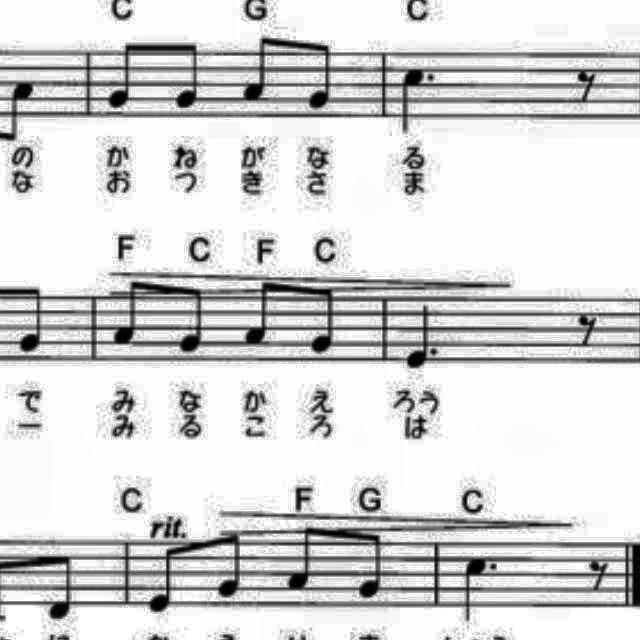Eighth-note: (278, 518, 328, 598), (238, 30, 284, 110), (240, 276, 286, 356), (108, 278, 154, 358), (40, 543, 84, 625), (348, 526, 392, 606), (100, 36, 144, 116), (8, 278, 52, 358), (208, 526, 250, 608), (306, 279, 348, 361), (301, 35, 343, 117), (172, 282, 215, 362), (142, 542, 186, 620), (170, 34, 210, 116), (0, 72, 40, 144)
Eighth-rest: (568, 60, 604, 116), (568, 304, 604, 356)
Quarter-dot: (394, 59, 450, 144), (398, 297, 450, 375), (458, 552, 507, 618)
